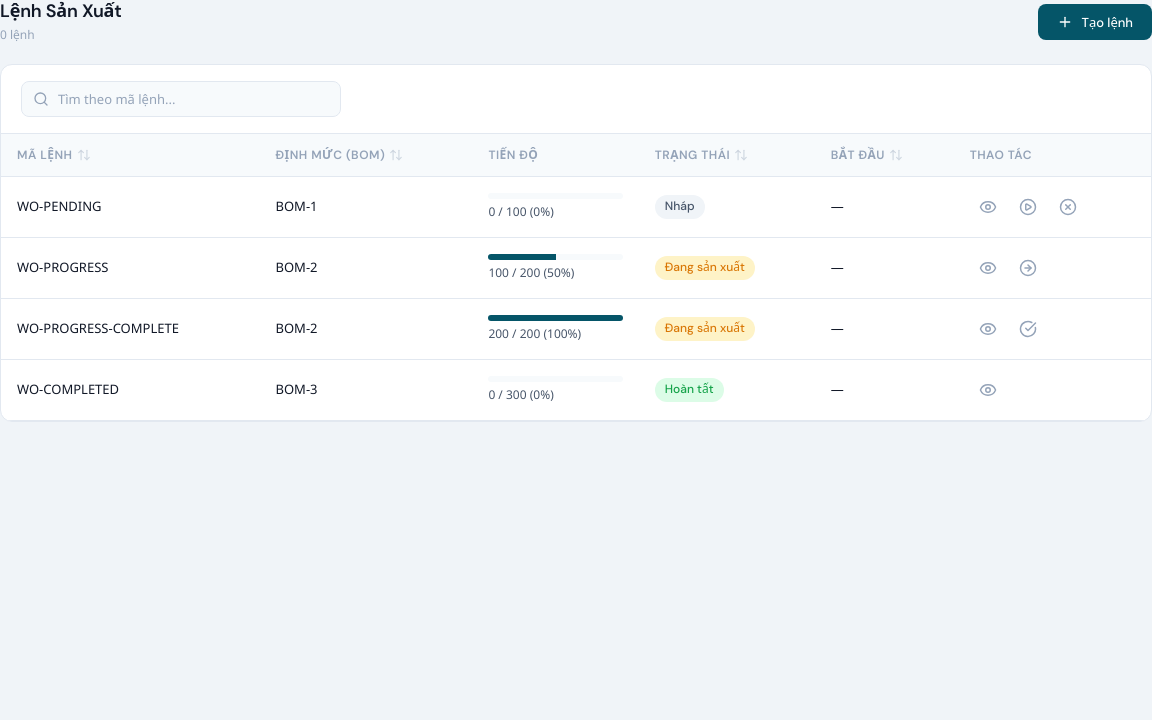
Scenario: WorkOrderList › handles declare production action
Expected: the text "WO-PROGRESS" is shown, [1,238,260,298]
Click the button named "nhập liệu" at (1028, 268), box [1010,250,1046,286]
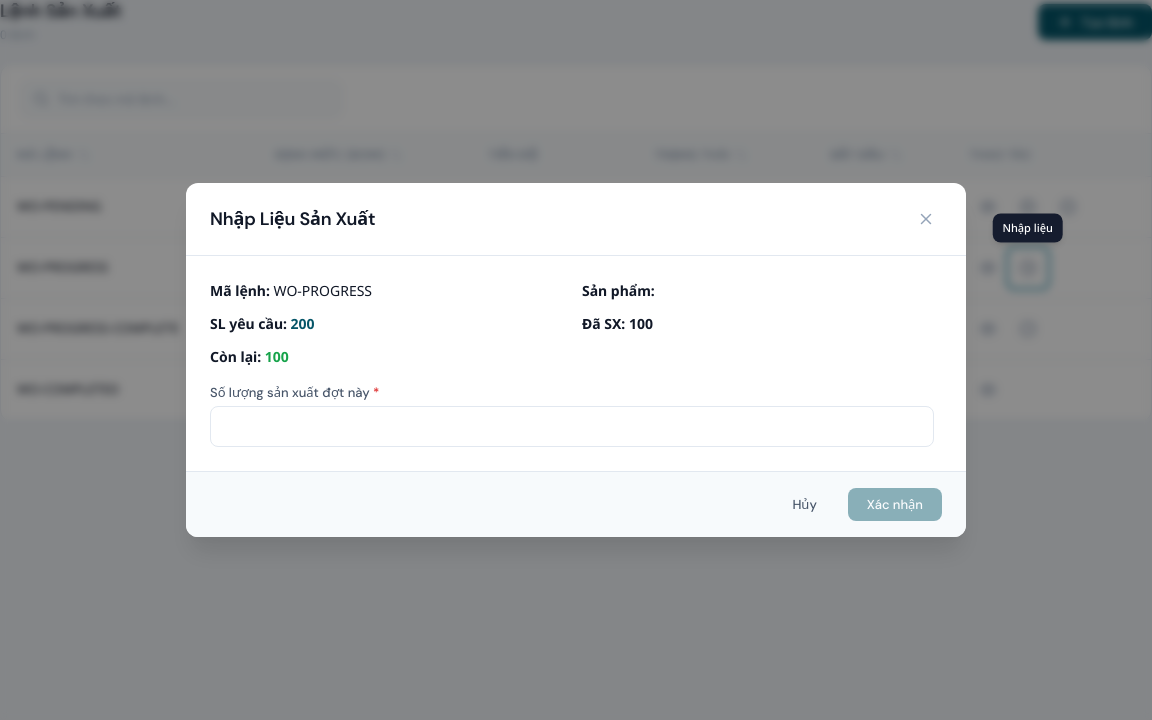
Expected: the text "Mã lệnh:" is shown, [210,281,270,300]
Expected: the list item "Mã lệnh: WO-PROGRESS" is shown, [210,281,372,300]
Type "50" into the number field at (572, 427), box [210,406,934,447]
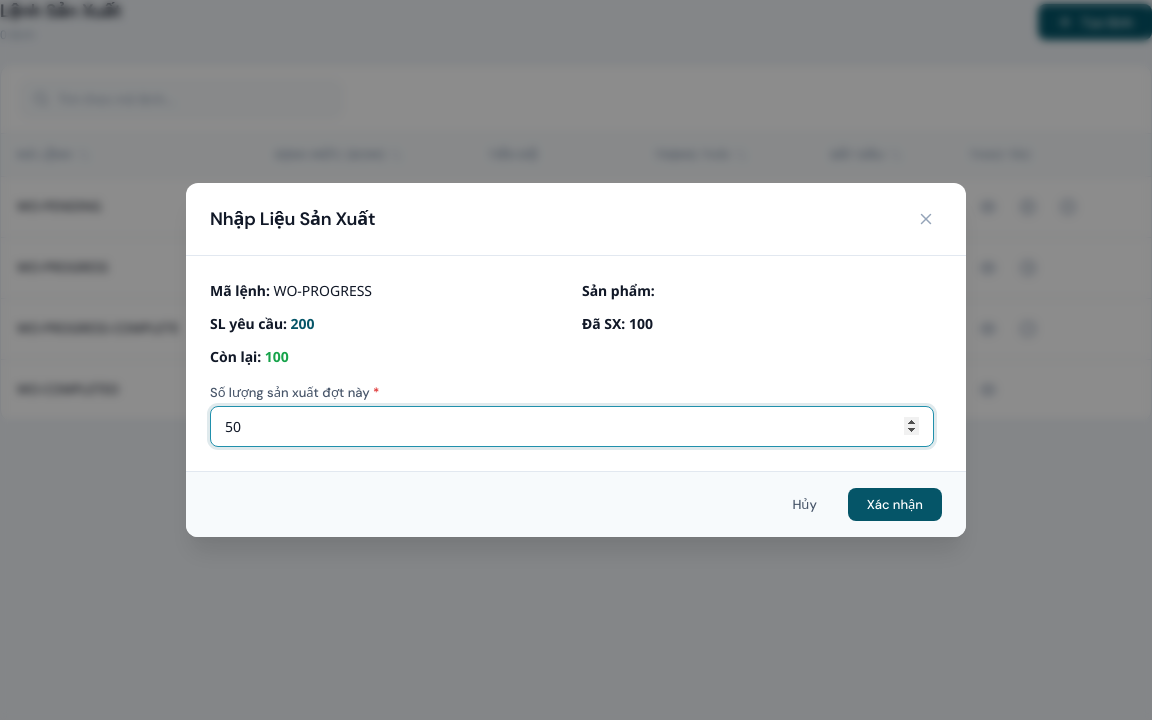
Click the button "Xác nhận" at (895, 505), box [848,488,942,521]
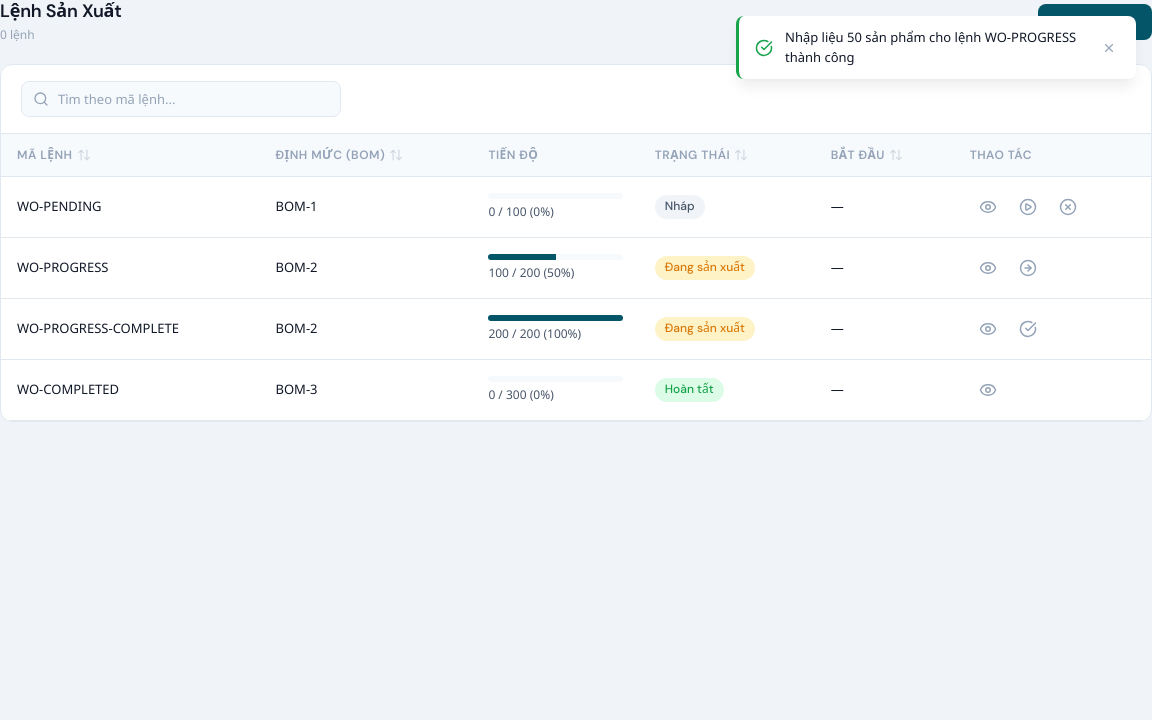
Expected: the text "Nhập liệu 50 sản phẩm cho lệnh WO-PROGRESS thành công" is shown, [785,28,1086,67]
